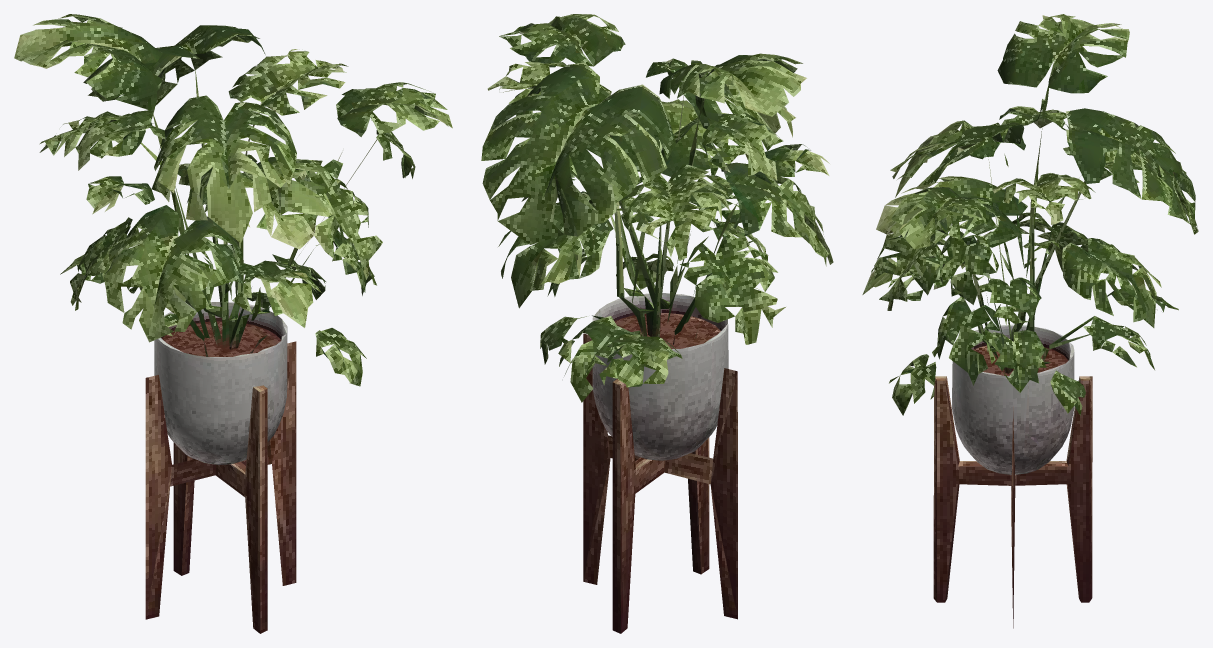
The model's file is gg_plant_monstera.glb.
The picture shows the model from 3 angles, left to right: view 1: azimuth 30°, elevation 25°; view 2: azimuth 150°, elevation 25°; view 3: azimuth 270°, elevation 25°; orthographic projection. The views are drawn at different scales.
Visible parts, largest first — view 1: mesh; view 2: mesh; view 3: mesh.
Part boxes in pixels (box(x1,y1,x2,y2)): mesh: box(14, 14, 452, 633); mesh: box(481, 14, 833, 633); mesh: box(862, 14, 1198, 628).
Bounding box in the file's own units: 0.8348 × 1.3 × 0.7556.
Materials: 1 (1 with a texture image).
